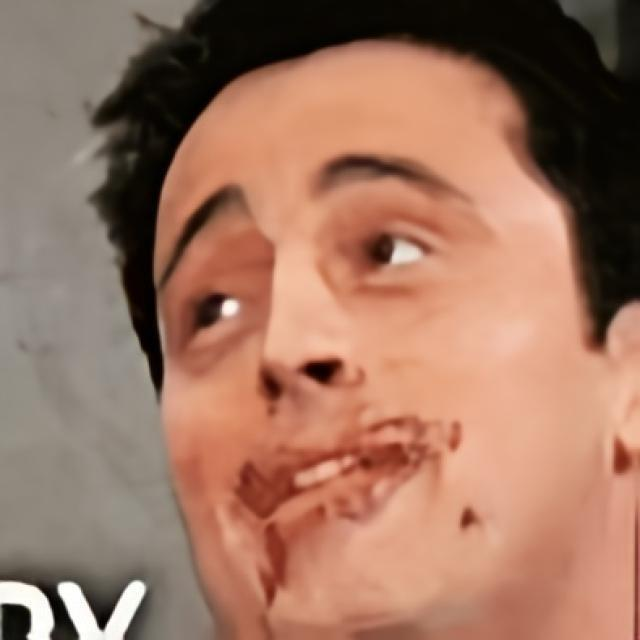surprise: (152, 39, 606, 640)
